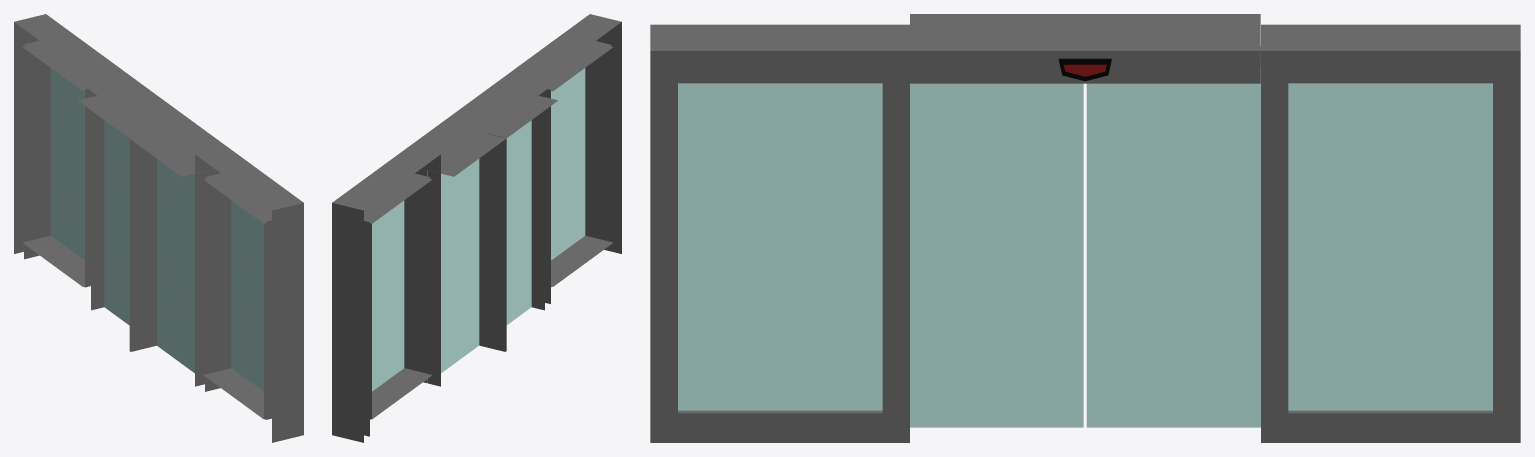
Rendered from Porta_Hall.fbx.
The picture shows the model from 3 angles, left to right: view 1: azimuth 30°, elevation 25°; view 2: azimuth 150°, elevation 25°; view 3: azimuth 270°, elevation 25°; orthographic projection. The views are drawn at different scales.
Parts seen in each view (by area): view 1: Cube.004, Cube.001; view 2: Cube.004, Cube.001; view 3: Cube.001, Cube.004, Cube.002.
Boxes of the visible parts, box(x1,y1,x2,y2) form: Cube.004: box(14, 14, 303, 442); Cube.001: box(50, 68, 263, 391); Cube.004: box(332, 14, 621, 442); Cube.001: box(372, 68, 585, 391); Cube.001: box(678, 68, 1492, 427); Cube.004: box(650, 14, 1520, 442); Cube.002: box(1058, 58, 1111, 81).
Bounding box in the file's own units: 120 × 570 × 1146.
